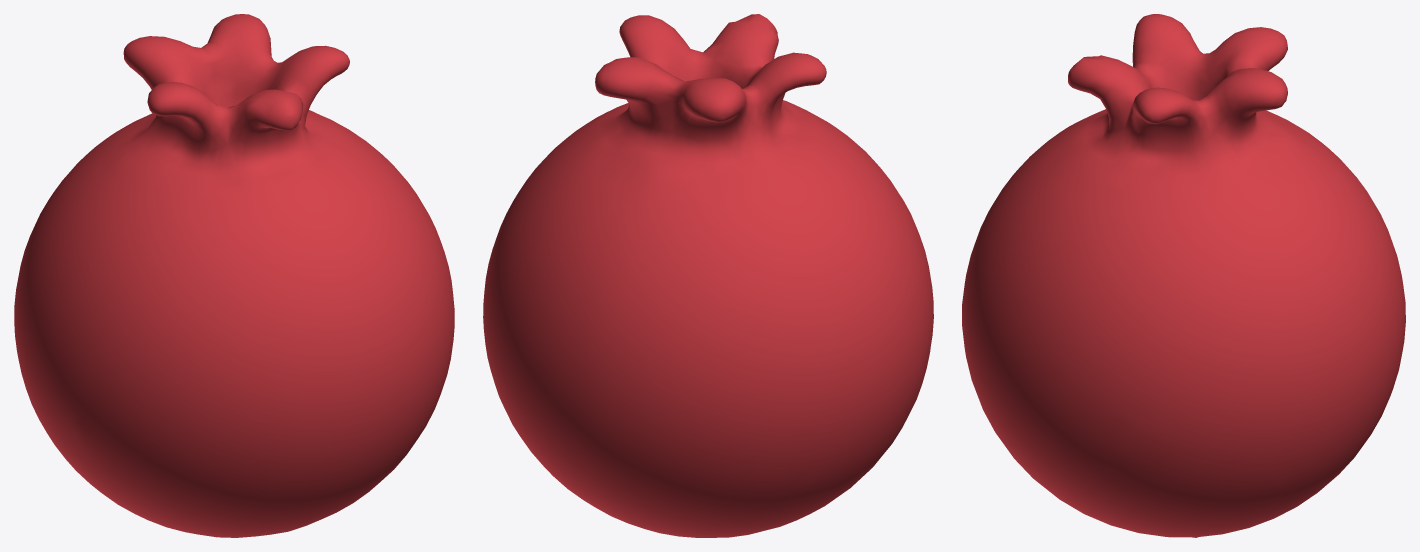
The model's file is bomb_LL_03.fbx.
3 renders of one model, left to right at view 1: azimuth 30°, elevation 25°; view 2: azimuth 150°, elevation 25°; view 3: azimuth 270°, elevation 25°, orthographic. The views are drawn at different scales.
Parts seen in each view (by area): view 1: bomba; view 2: bomba; view 3: bomba.
Part boxes in pixels (x1,y1,x2,y2): bomba: (14,14,454,537); bomba: (483,14,933,537); bomba: (962,14,1405,537).
Bounding box in the file's own units: 1.29 × 1.49 × 1.29.
